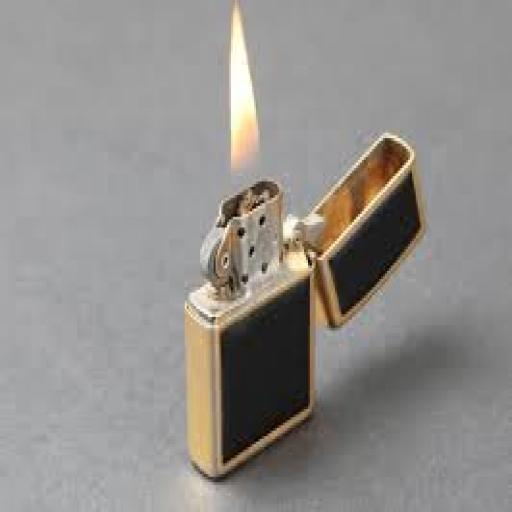fire: (229, 0, 258, 187), (218, 187, 266, 222)
